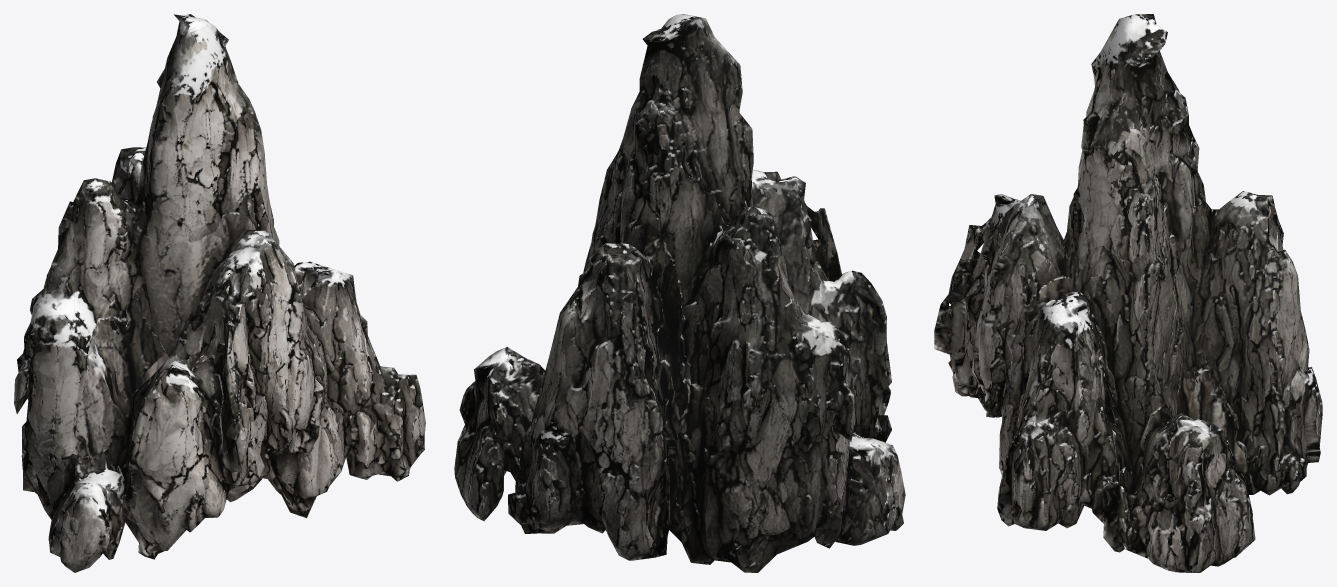
The model's file is InkPart02_Cluster.fbx.
3 renders of one model, left to right at view 1: azimuth 30°, elevation 25°; view 2: azimuth 150°, elevation 25°; view 3: azimuth 270°, elevation 25°, orthographic. The views are drawn at different scales.
Parts seen in each view (by area): view 1: texture_mapping; view 2: texture_mapping; view 3: texture_mapping.
Boxes of the visible parts, x1,y1,x2,y2 form: texture_mapping: (14, 14, 425, 572); texture_mapping: (454, 14, 905, 572); texture_mapping: (934, 14, 1322, 572).
Size of the model in its own units: 0.7334 by 0.7063 by 0.9506.
Materials: 1 (1 with a texture image).
